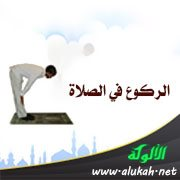ruku: (4, 57, 57, 125)
